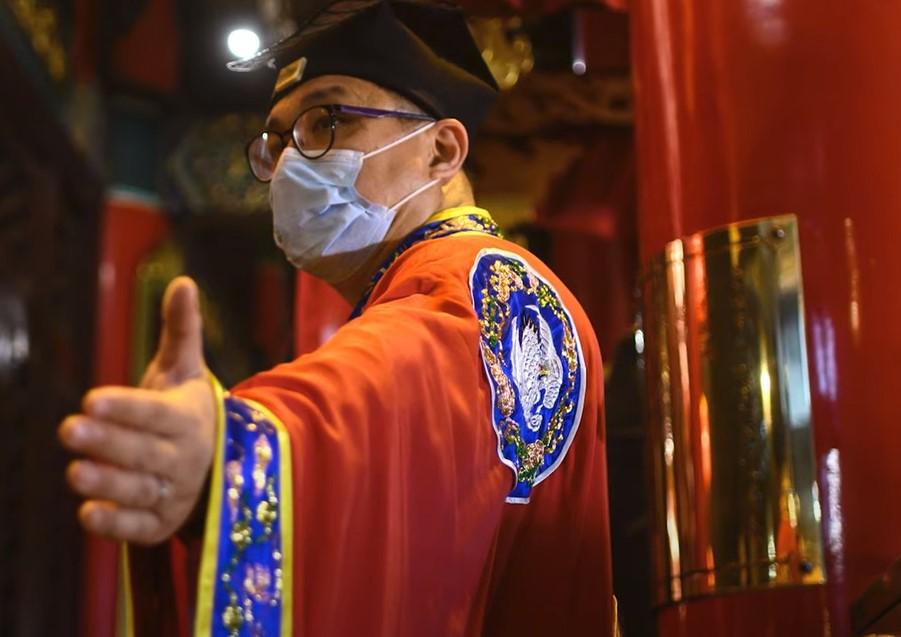face_with_mask: (255, 22, 472, 265)
